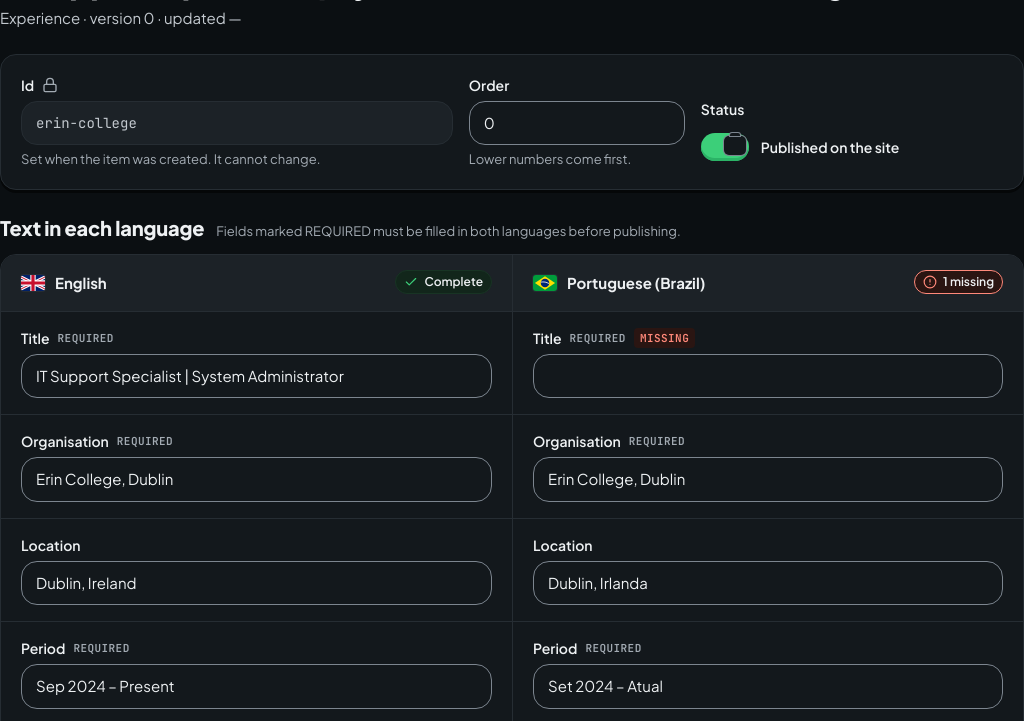
DocEditor › blocks publishing when a language is empty and names the field
Type "!" into the field with id "field-en-location" at {"x": 256, "y": 583}, box [21,561,492,605]
(page scrolled)
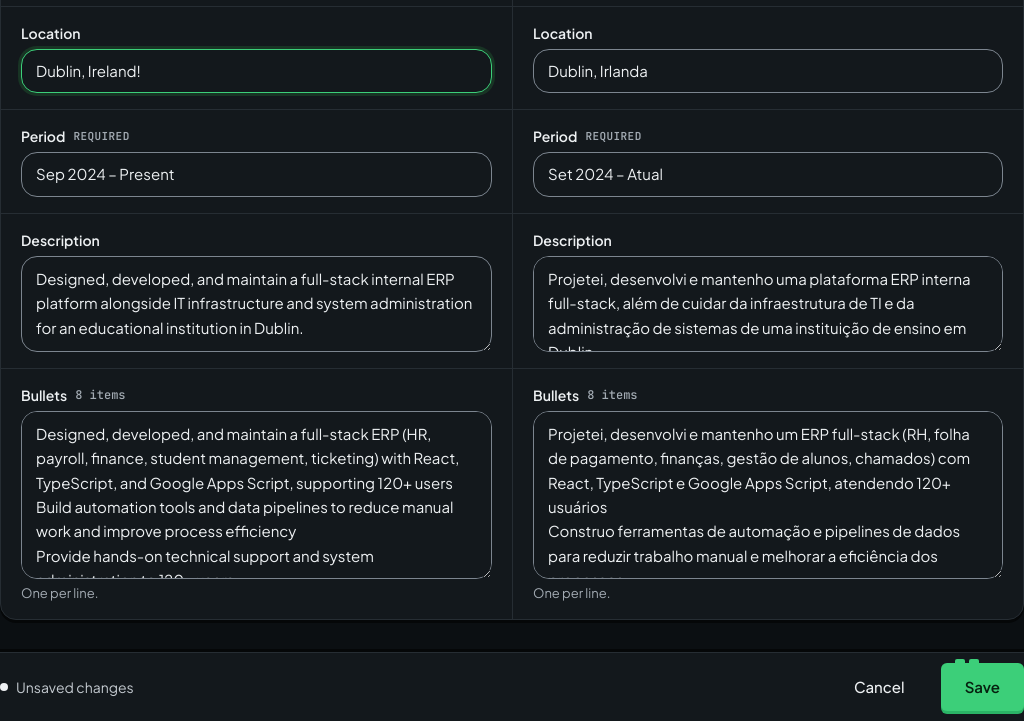
Click the button "Save" at {"x": 982, "y": 687}, box [941,663,1023,711]
(page scrolled)
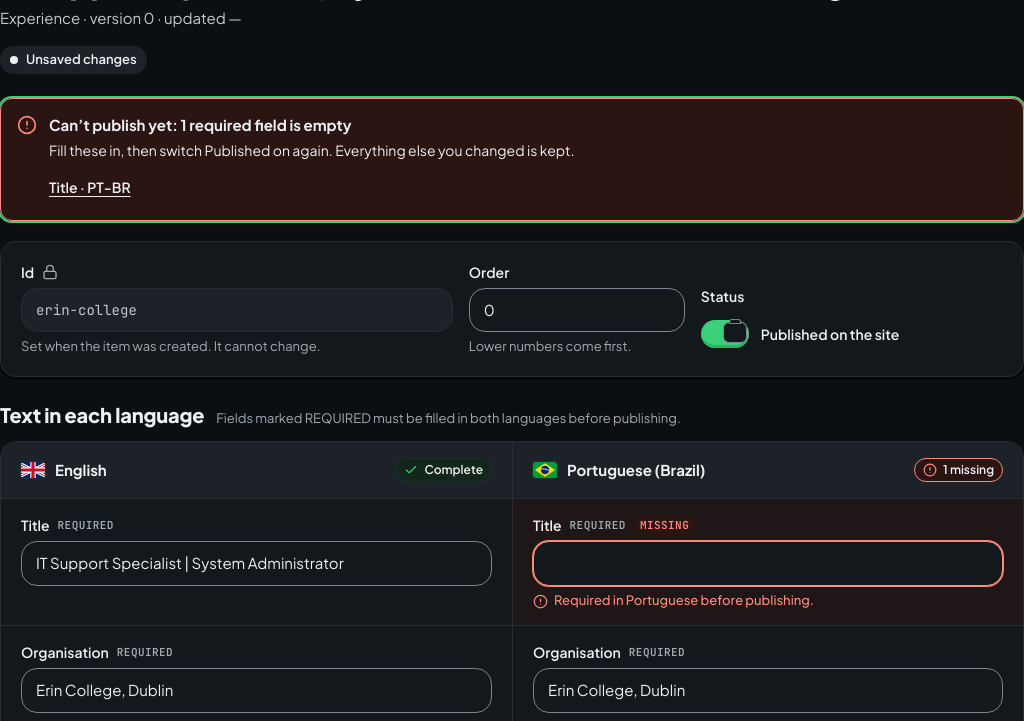
Expected: the message shows "Can’t publish yet: 1 required field is empty", [49,114,352,134]
Expected: the link "Title · PT-BR" is shown, [49,178,131,196]
